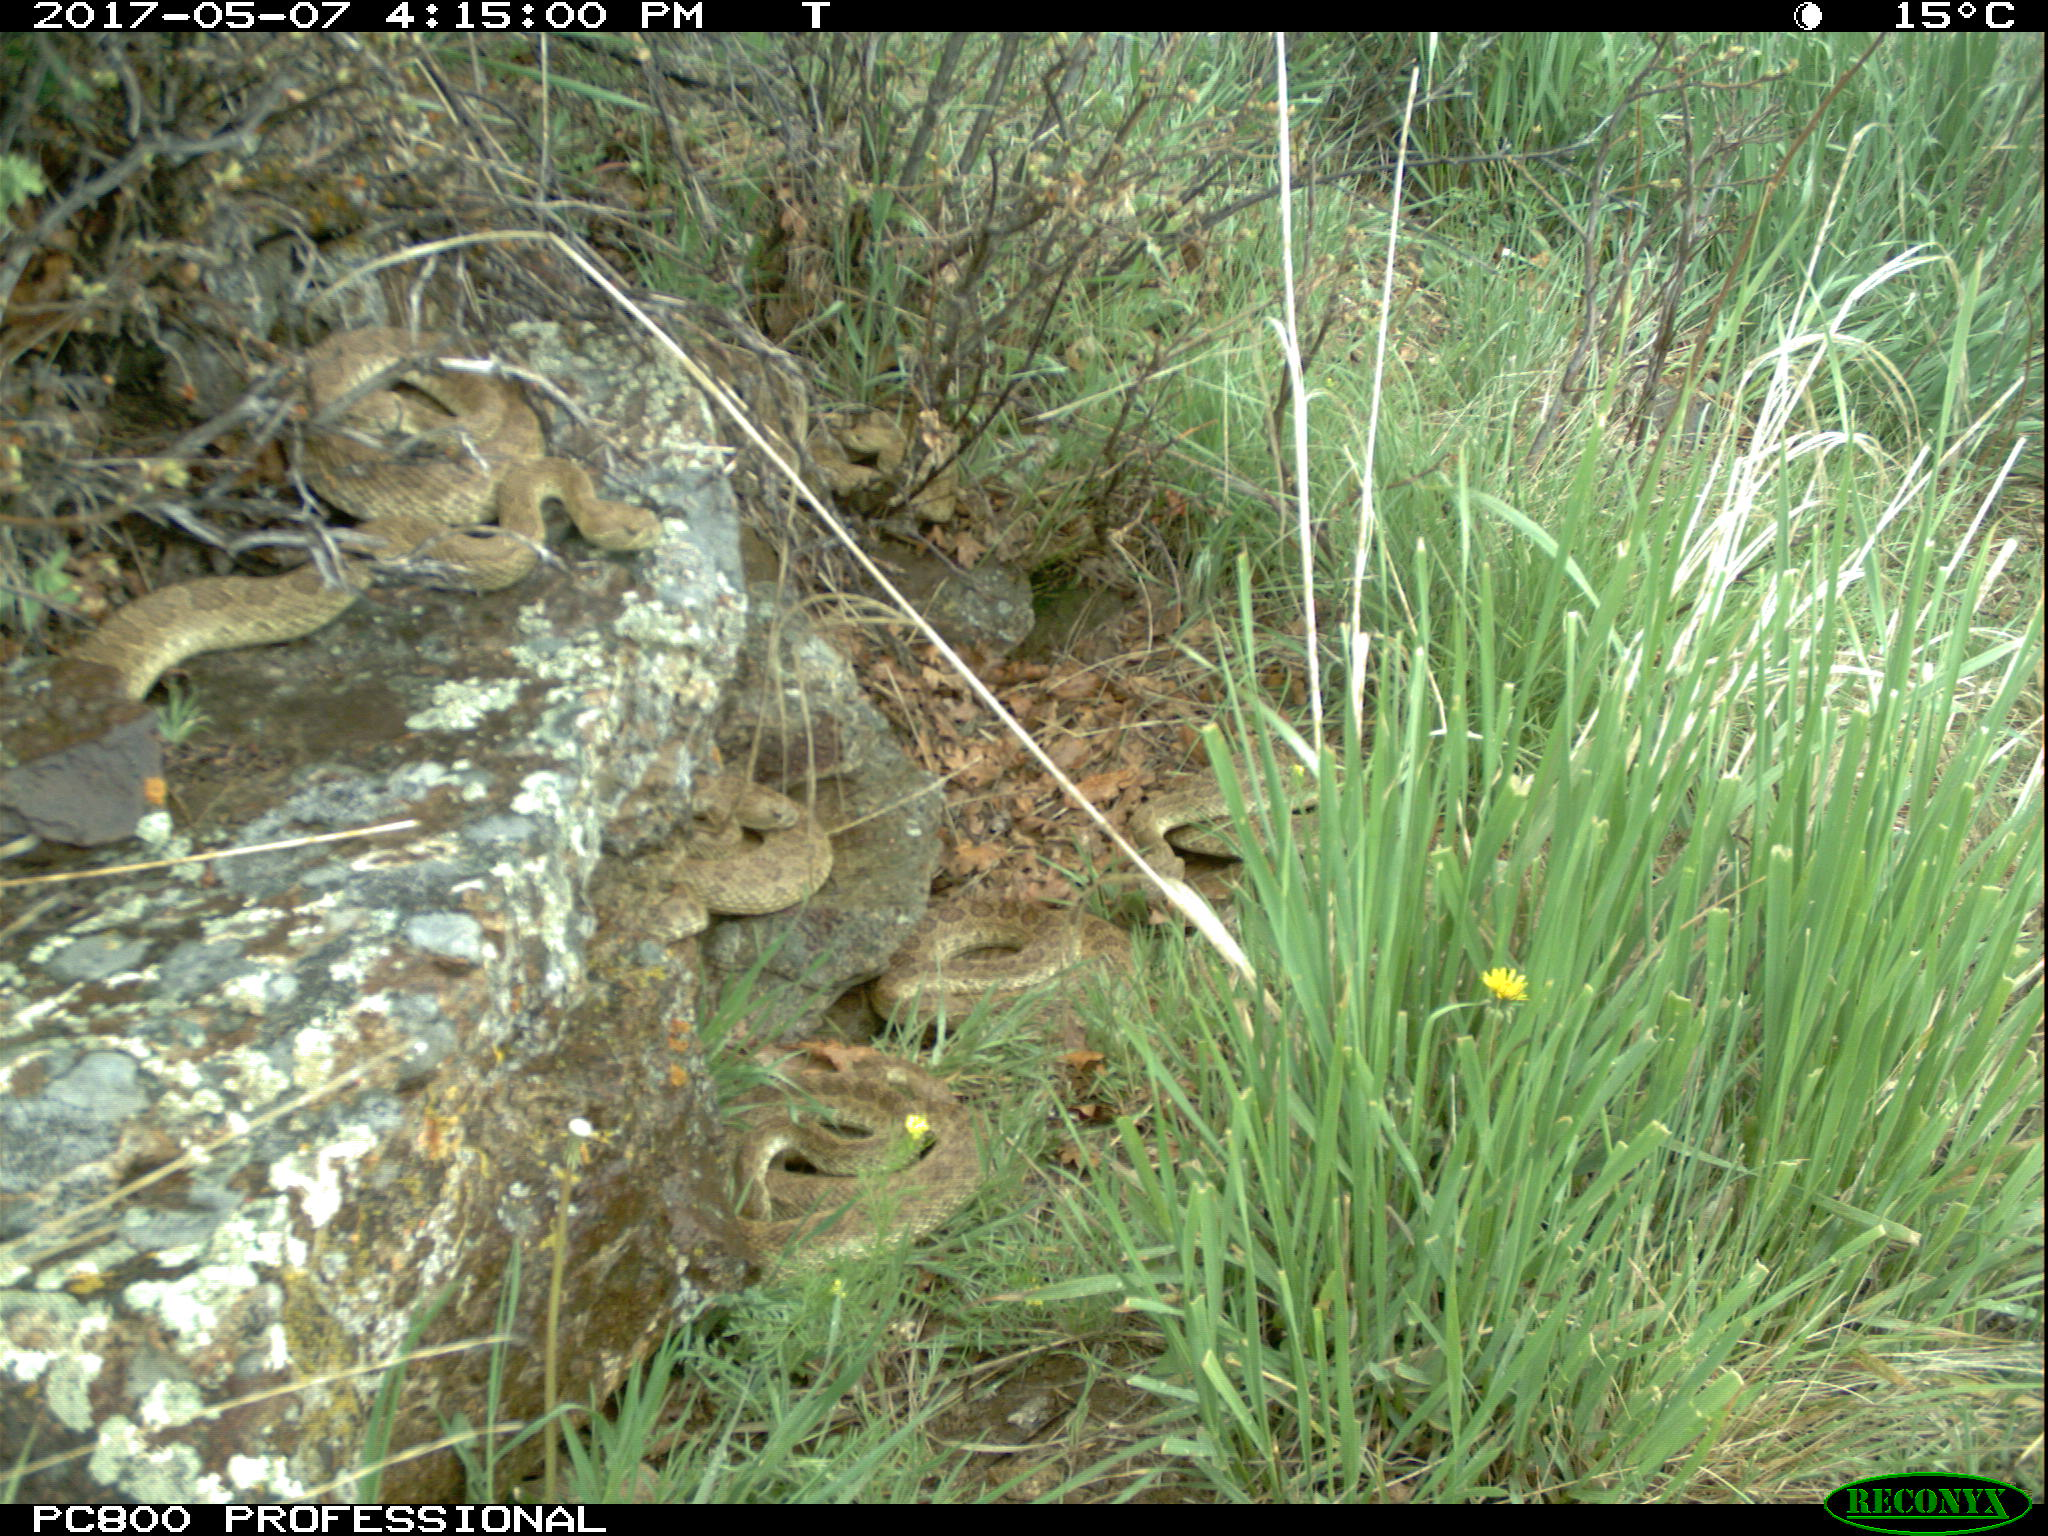snake: (50, 470, 685, 700), (719, 1058, 993, 1275), (290, 329, 534, 511), (643, 762, 842, 945), (1114, 737, 1355, 889), (877, 891, 1147, 1025), (808, 418, 913, 495)
